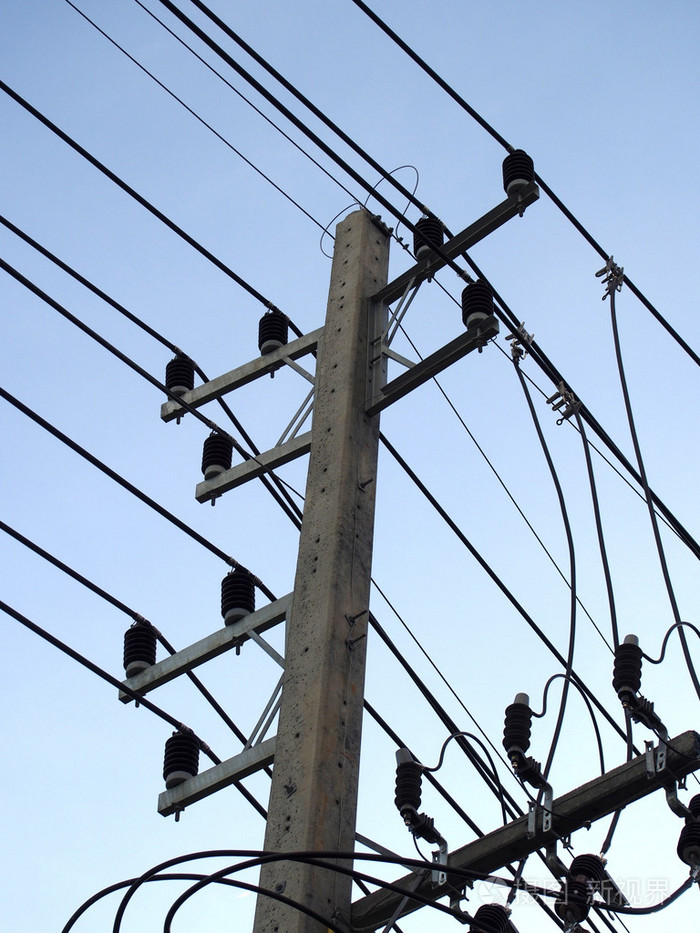insulator: (390, 763, 430, 809), (608, 643, 646, 691), (500, 702, 537, 747)
